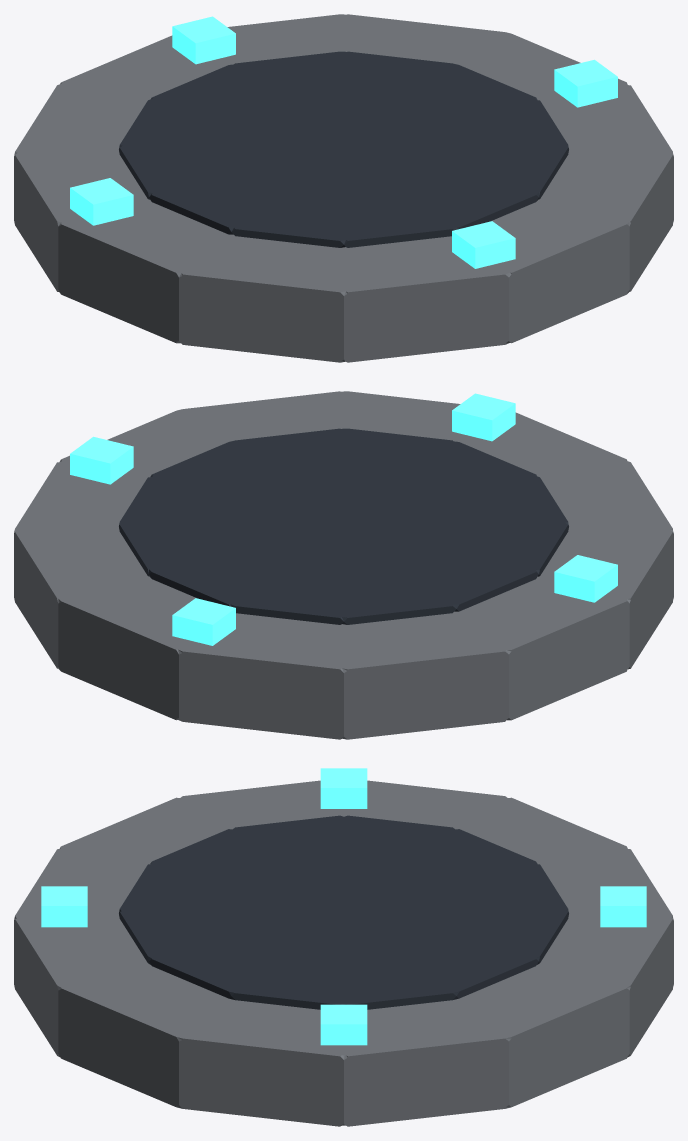
Rendered from boulder_socket_visual.glb.
3 renders of one model, top to bottom at view 1: azimuth 30°, elevation 25°; view 2: azimuth 150°, elevation 25°; view 3: azimuth 270°, elevation 25°, orthographic.
Parts seen in each view (by area): view 1: boulder_socket_visual_Static, ActiveLens, ActiveLens.001, ActiveLens.002, ActiveLens.003; view 2: boulder_socket_visual_Static, ActiveLens, ActiveLens.002, ActiveLens.003, ActiveLens.001; view 3: boulder_socket_visual_Static, ActiveLens, ActiveLens.001, ActiveLens.003, ActiveLens.002.
Boxes of the visible parts, x1,y1,x2,y2 form: boulder_socket_visual_Static: (14, 14, 673, 362); ActiveLens: (554, 59, 617, 107); ActiveLens.001: (172, 16, 235, 64); ActiveLens.002: (70, 178, 133, 225); ActiveLens.003: (452, 221, 515, 268); boulder_socket_visual_Static: (14, 391, 673, 739); ActiveLens: (70, 436, 133, 484); ActiveLens.002: (554, 555, 617, 602); ActiveLens.003: (452, 393, 515, 441); ActiveLens.001: (172, 598, 235, 645); boulder_socket_visual_Static: (14, 780, 673, 1126); ActiveLens: (320, 1004, 367, 1045); ActiveLens.001: (600, 886, 646, 927); ActiveLens.003: (41, 886, 87, 927); ActiveLens.002: (320, 768, 367, 808).
Size of the model in its own units: 1.7 by 0.26 by 1.7.
